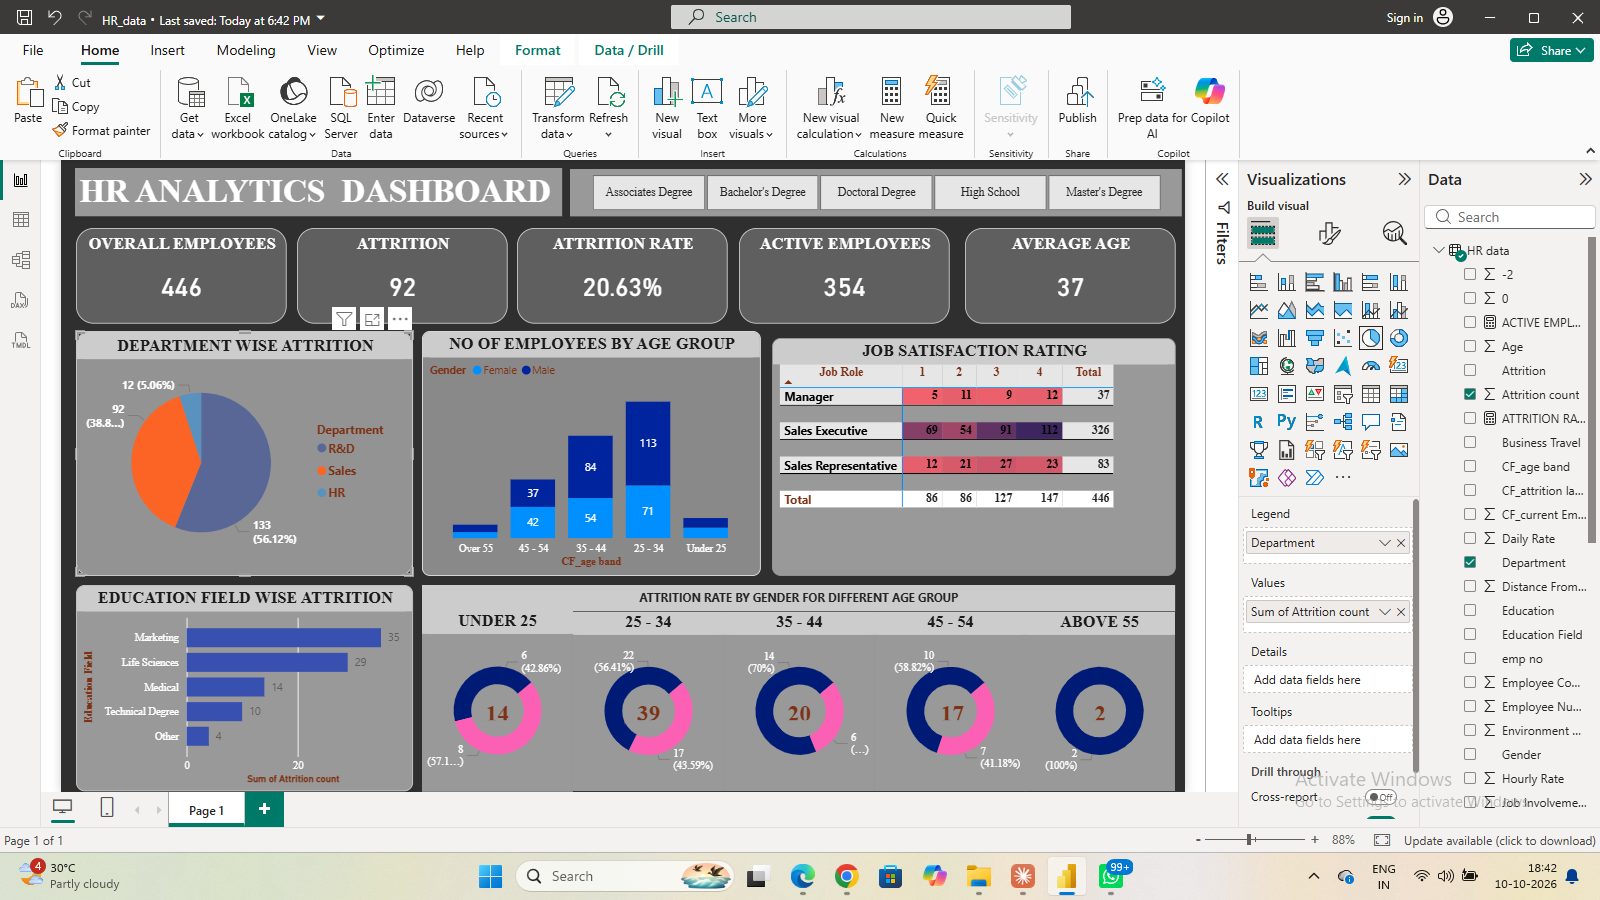

The dashboard page shown, as its layout file describes it:
{"tool":"powerbi","page":{"name":"Page 1","canvas":[1280,720],"ordinal":0},"visuals":[{"type":"card","title":"OVERALL EMPLOYEES","fields":{"Values":["Sum(HR data.Employee Count)"]},"box":[16.7,77.1,240.3,109.2],"z":0},{"type":"card","title":"ATTRITION","fields":{"Values":["Sum(HR data.Attrition count)"]},"box":[268.6,77.1,240.3,109.2],"z":1000},{"type":"card","title":"ATTRITION RATE","fields":{"Values":["HR data.ATTRITION RATE"]},"box":[519.2,77.1,240.3,109.2],"z":2000},{"type":"card","title":"ACTIVE EMPLOYEES","fields":{"Values":["HR data.ACTIVE EMPLOYEES"]},"box":[772.4,77.1,240.3,109.2],"z":3000},{"type":"card","title":"AVERAGE AGE","fields":{"Values":["Avg(HR data.Age)"]},"box":[1029.4,77.1,240.3,109.2],"z":4000},{"type":"pieChart","title":"DEPARTMENT WISE ATTRITION","fields":{"Category":["HR data.Department"],"Y":["Sum(HR data.Attrition count)"]},"box":[16.7,195.3,384.3,278.9],"z":5000},{"type":"columnChart","title":"NO OF EMPLOYEES BY AGE GROUP","fields":{"Category":["HR data.CF_age band"],"Y":["Sum(HR data.Employee Count)"],"Series":["HR data.Gender"]},"box":[411.2,195.3,385.5,278.9],"z":6000},{"type":"pivotTable","title":"JOB SATISFACTION RATING","fields":{"Rows":["HR data.Job Role"],"Columns":["HR data.Job Satisfaction"],"Values":["Sum(HR data.Employee Count)"]},"box":[809.6,203.1,460.1,271.2],"z":7000},{"type":"barChart","title":"EDUCATION FIELD WISE ATTRITION","fields":{"Category":["HR data.Education Field"],"Y":["Sum(HR data.Attrition count)"]},"box":[16.7,484.5,384.3,235.2],"z":8000},{"type":"donutChart","title":"UNDER 25","fields":{"Category":["HR data.Gender"],"Y":["Sum(HR data.Attrition count)"],"Series":["HR data.CF_age band"]},"box":[411.2,514.1,172.2,205.6],"z":9000},{"type":"textbox","box":[411.2,484.5,858.5,29.6],"z":10000},{"type":"donutChart","title":"25 - 34","fields":{"Category":["HR data.Gender"],"Y":["Sum(HR data.Attrition count)"],"Series":["HR data.CF_age band"]},"box":[583.5,515.3,172.2,204.3],"z":11000},{"type":"donutChart","title":"35 - 44","fields":{"Category":["HR data.Gender"],"Y":["Sum(HR data.Attrition count)"],"Series":["HR data.CF_age band"]},"box":[755.7,515.3,172.2,204.3],"z":12000},{"type":"donutChart","title":"45 - 54","fields":{"Category":["HR data.Gender"],"Y":["Sum(HR data.Attrition count)"],"Series":["HR data.CF_age band"]},"box":[927.9,515.3,172.2,204.3],"z":13000},{"type":"donutChart","title":"ABOVE 55","fields":{"Category":["HR data.Gender"],"Y":["Sum(HR data.Attrition count)"],"Series":["HR data.CF_age band"]},"box":[1097.5,515.3,172.2,204.3],"z":14000},{"type":"card","fields":{"Values":["Sum(HR data.Attrition count)"]},"box":[472.9,615,48.8,28.3],"z":15000},{"type":"card","fields":{"Values":["Sum(HR data.Attrition count)"]},"box":[641.3,615.6,56.5,28.3],"z":16000},{"type":"card","fields":{"Values":["Sum(HR data.Attrition count)"]},"box":[817.3,615.6,48.8,28.3],"z":17000},{"type":"card","fields":{"Values":["Sum(HR data.Attrition count)"]},"box":[990.8,615.6,48.8,28.3],"z":18000},{"type":"card","fields":{"Values":["Sum(HR data.Attrition count)"]},"box":[1159.2,615.6,48.8,28.3],"z":19000},{"type":"textbox","box":[15.4,9,555.2,55.3],"z":19002},{"type":"slicer","fields":{"Values":["HR data.Education"]},"box":[579.6,10.3,696.5,54],"z":19003}]}

Visuals, with their boxes on the page's 1280x720 design canvas (x1, y1, x2, y2). These are canvas units, not pixel positions in the 1600x900 screenshot, which may show the page scaled, cropped or inside an application window:
"OVERALL EMPLOYEES" card: l=17, t=77, r=257, b=186
"ATTRITION" card: l=269, t=77, r=509, b=186
"ATTRITION RATE" card: l=519, t=77, r=760, b=186
"ACTIVE EMPLOYEES" card: l=772, t=77, r=1013, b=186
"AVERAGE AGE" card: l=1029, t=77, r=1270, b=186
"DEPARTMENT WISE ATTRITION" pieChart: l=17, t=195, r=401, b=474
"NO OF EMPLOYEES BY AGE GROUP" columnChart: l=411, t=195, r=797, b=474
"JOB SATISFACTION RATING" pivotTable: l=810, t=203, r=1270, b=474
"EDUCATION FIELD WISE ATTRITION" barChart: l=17, t=484, r=401, b=720
"UNDER 25" donutChart: l=411, t=514, r=583, b=720
textbox: l=411, t=484, r=1270, b=514
"25 - 34" donutChart: l=584, t=515, r=756, b=720
"35 - 44" donutChart: l=756, t=515, r=928, b=720
"45 - 54" donutChart: l=928, t=515, r=1100, b=720
"ABOVE 55" donutChart: l=1098, t=515, r=1270, b=720
card - Sum(HR data.Attrition count): l=473, t=615, r=522, b=643
card - Sum(HR data.Attrition count): l=641, t=616, r=698, b=644
card - Sum(HR data.Attrition count): l=817, t=616, r=866, b=644
card - Sum(HR data.Attrition count): l=991, t=616, r=1040, b=644
card - Sum(HR data.Attrition count): l=1159, t=616, r=1208, b=644
textbox: l=15, t=9, r=571, b=64
slicer - HR data.Education: l=580, t=10, r=1276, b=64
